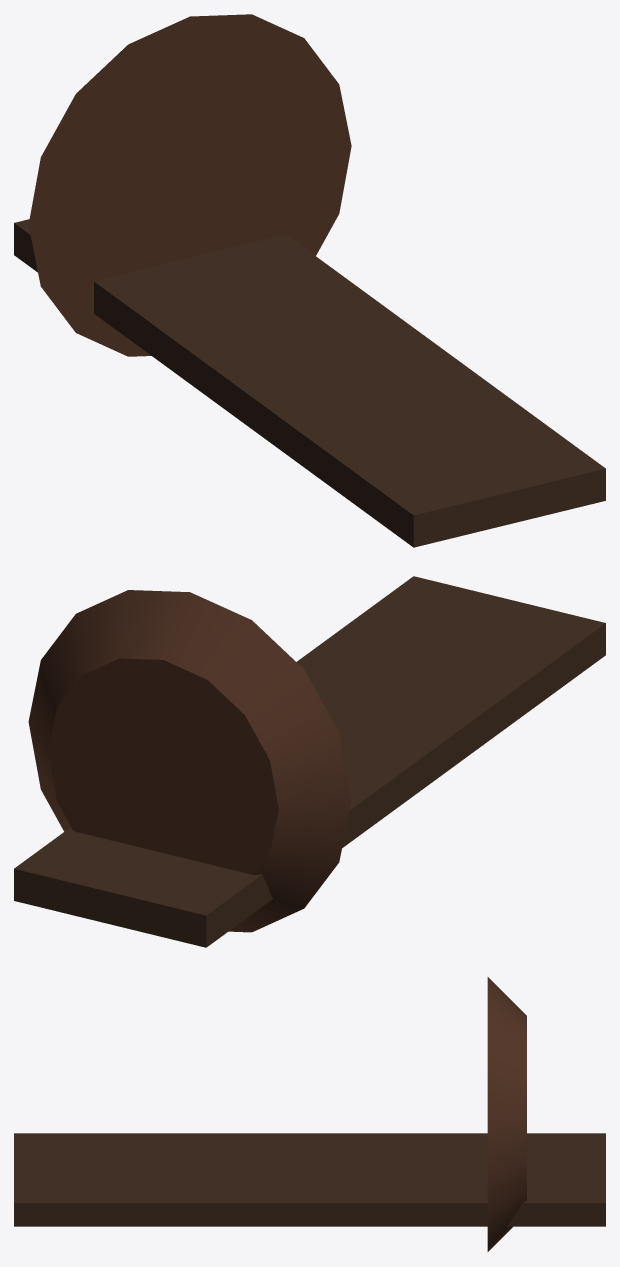
Rendered from heat_shield.glb.
3 views of the same model, one above another, from view 1: azimuth 30°, elevation 25°; view 2: azimuth 150°, elevation 25°; view 3: azimuth 270°, elevation 25° (orthographic). The views are drawn at different scales.
Parts seen in each view (by area): view 1: Belly, Shield; view 2: Shield, Belly; view 3: Belly, Shield.
Part boxes in pixels (x1,y1,x2,y2): Belly: [14, 219, 605, 547]; Shield: [28, 14, 351, 356]; Shield: [28, 590, 351, 932]; Belly: [14, 576, 605, 947]; Belly: [14, 1133, 605, 1226]; Shield: [487, 977, 526, 1251].
Bounding box in the file's own units: 0.84 × 0.84 × 1.8.
